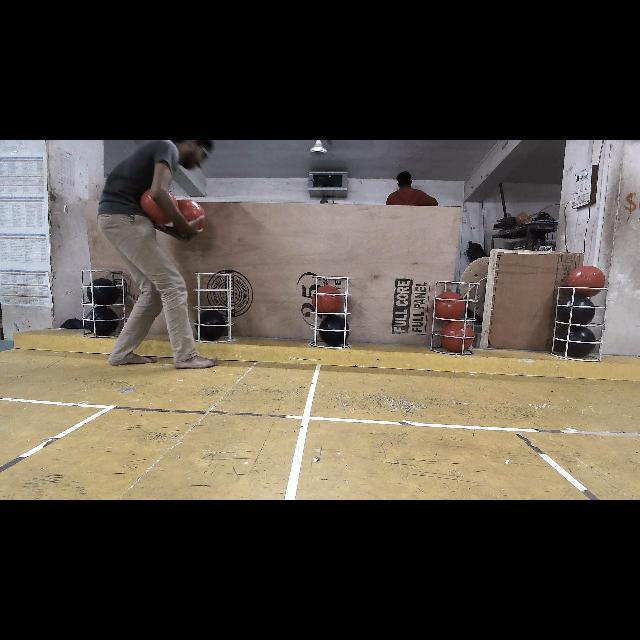P: (560, 326, 596, 356), (560, 296, 594, 324), (86, 308, 118, 336), (319, 317, 349, 345), (200, 312, 230, 338), (88, 281, 119, 305)
R: (568, 265, 605, 298), (444, 320, 474, 352), (316, 288, 346, 316), (434, 294, 466, 320)
S: (549, 277, 609, 361), (426, 275, 484, 357), (77, 265, 131, 343), (192, 271, 240, 347), (310, 268, 352, 348)
